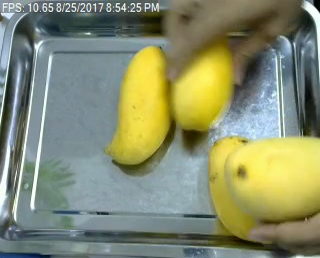Mango: (103, 43, 173, 164), (227, 136, 320, 221), (207, 136, 274, 243), (170, 36, 236, 133)
